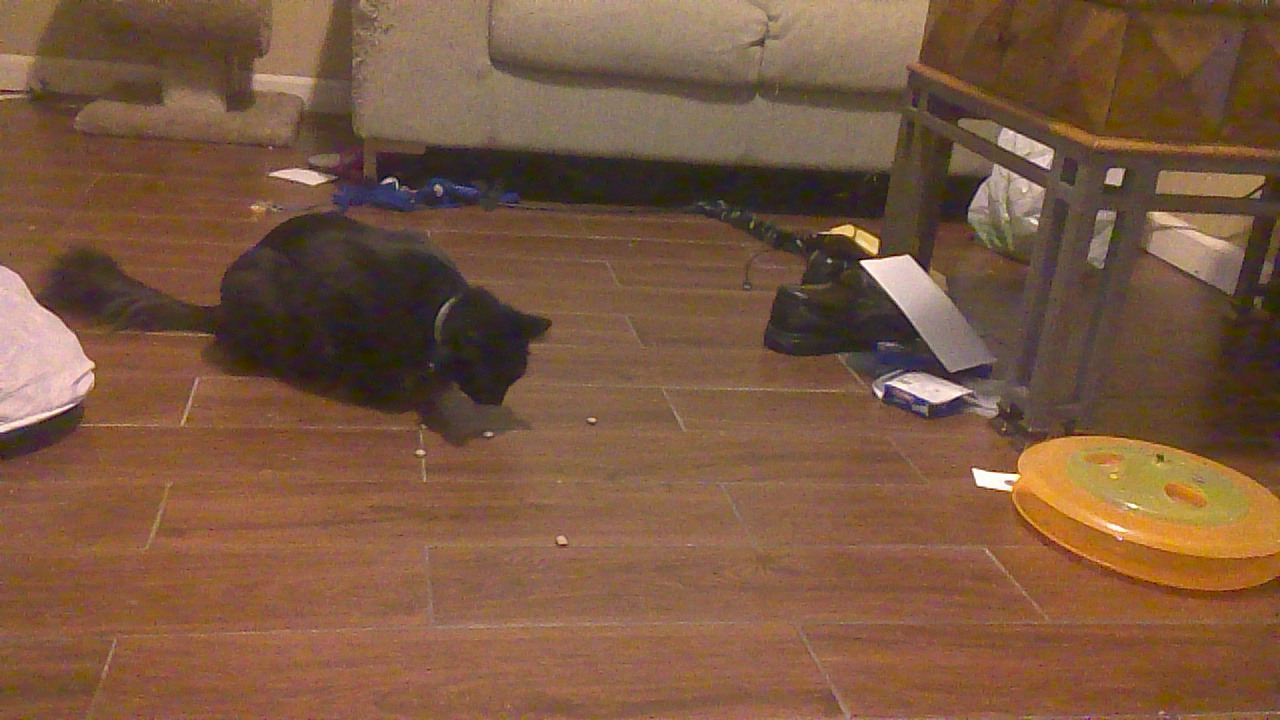cat: (42, 213, 556, 432)
